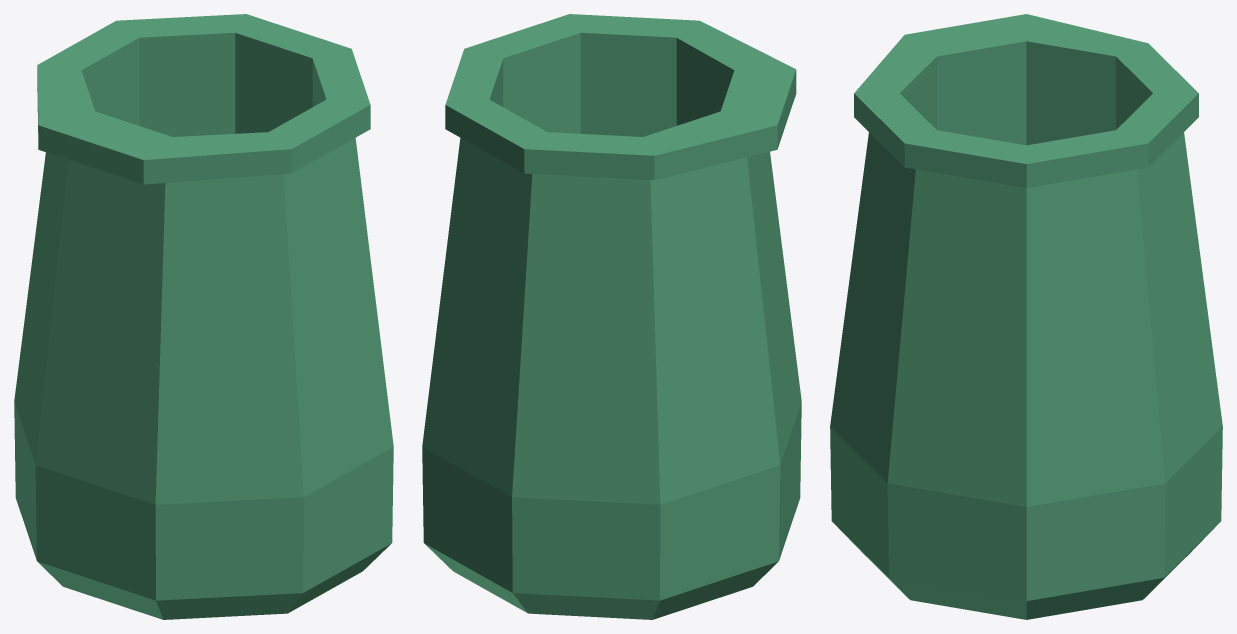
File: fiole_4.fbx
The picture shows the model from 3 angles, left to right: view 1: azimuth 30°, elevation 25°; view 2: azimuth 150°, elevation 25°; view 3: azimuth 270°, elevation 25°; orthographic projection.
Visible parts, largest first — view 1: pCylinder3; view 2: pCylinder3; view 3: pCylinder3.
Part boxes in pixels (x1,y1,x2,y2): pCylinder3: (14, 14, 393, 619); pCylinder3: (422, 14, 801, 619); pCylinder3: (830, 14, 1222, 619).
Bounding box in the file's own units: 2.27 × 3.01 × 2.33.
